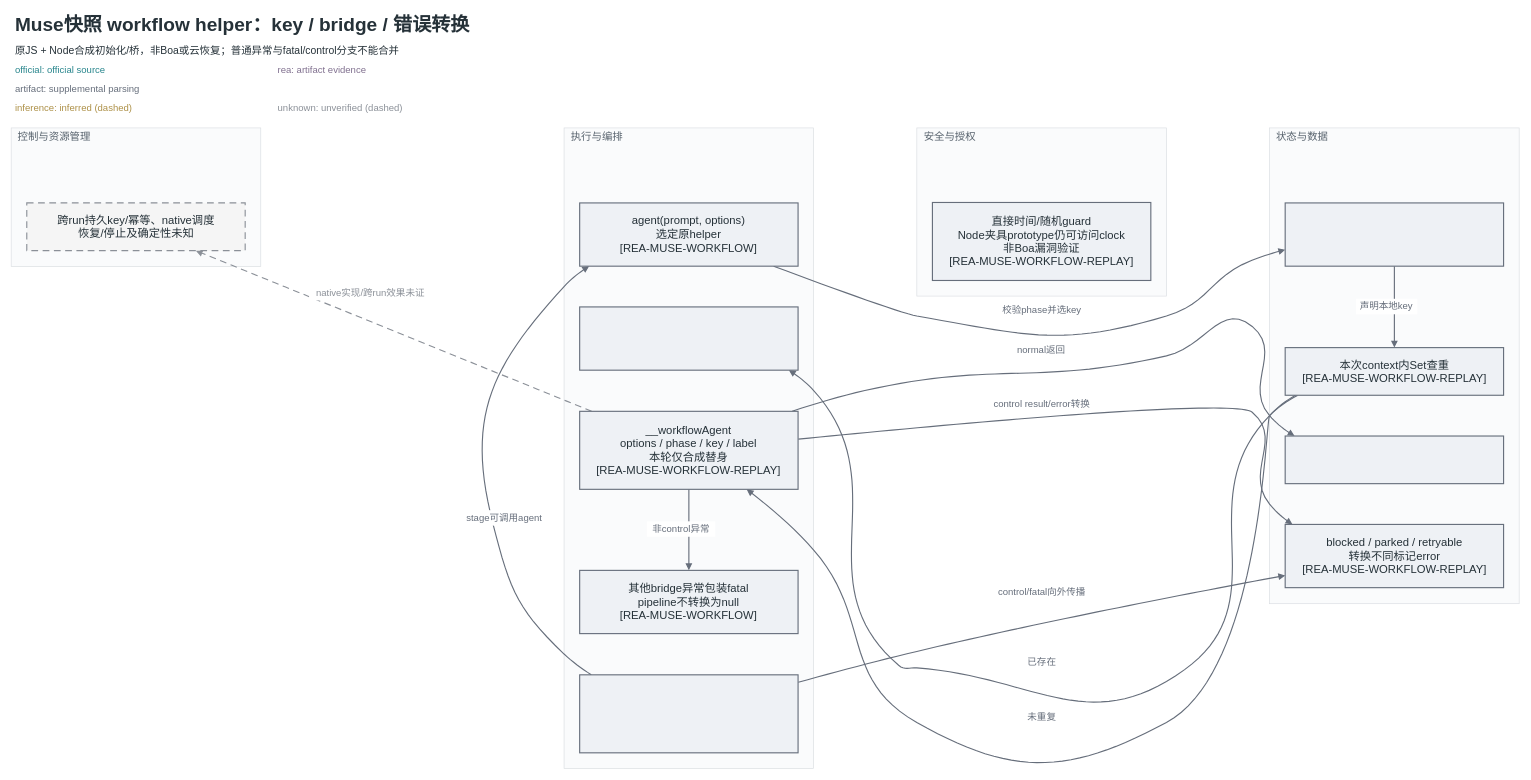
Image size: 1531x780. Some labels were removed from this diagram. The shapes that lost their labels are listed below. From the top down, each one's box as (x1, y1, x2, y2) in pixels, then its label:
(1284, 202, 1504, 266): 有key：explicit 缺key：auto phase/path/ordinal [REA-MUSE-WORKFLOW-REPLAY]
(579, 306, 798, 370): 重复key抛fatal 第二次bridge未调用 [REA-MUSE-WORKFLOW-REPLAY]
(1284, 435, 1504, 484): 正常结果返回 [REA-MUSE-WORKFLOW-REPLAY]
(579, 674, 798, 753): pipeline普通JS异常→null parallel限流/barrier 非全部失败可恢复 [REA-MUSE-WORKFLOW-REPLAY]
